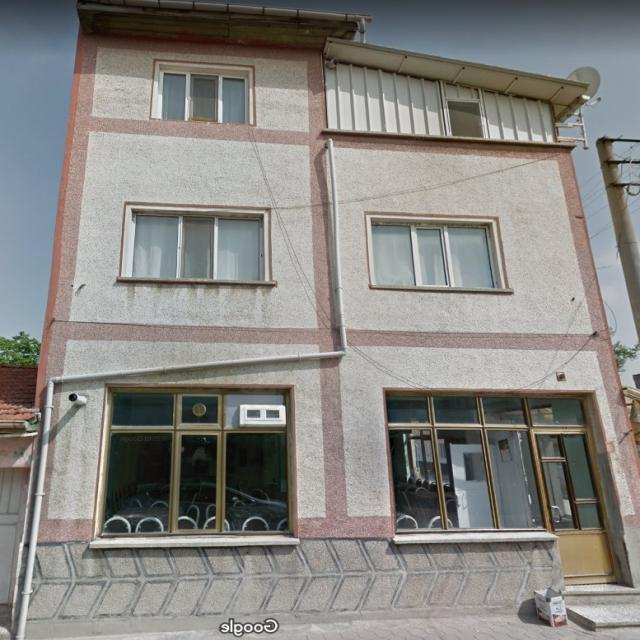Building: (17, 0, 640, 623)
